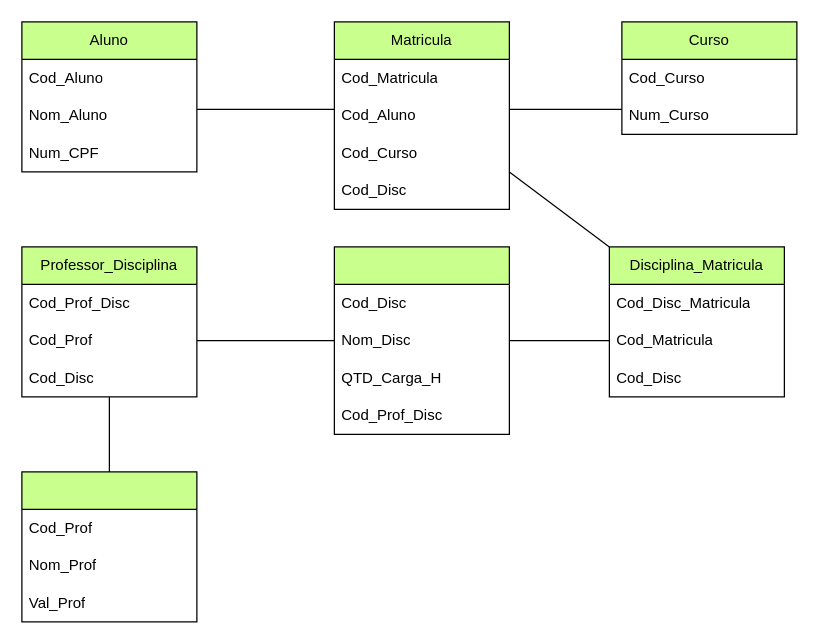
Image size: 819x644. Some labels were removed from this diagram. The box of each missing label's shape, as (x1, y1, x2, y2) in pixels:
Diploma: (333, 246, 509, 434)
Professor: (21, 471, 197, 622)
